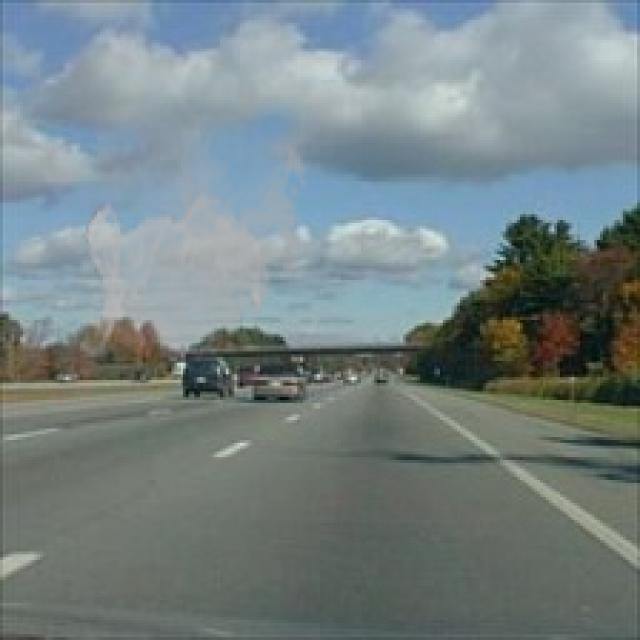smoke: (80, 114, 314, 366)
